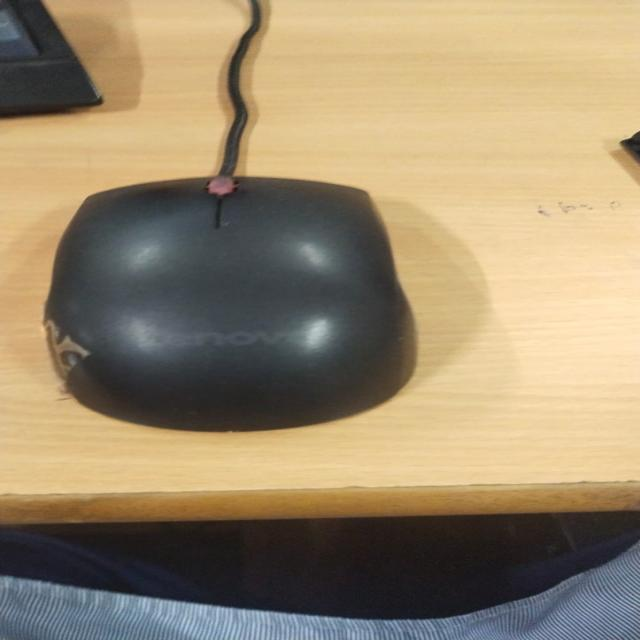mouse: (99, 80, 361, 518)
